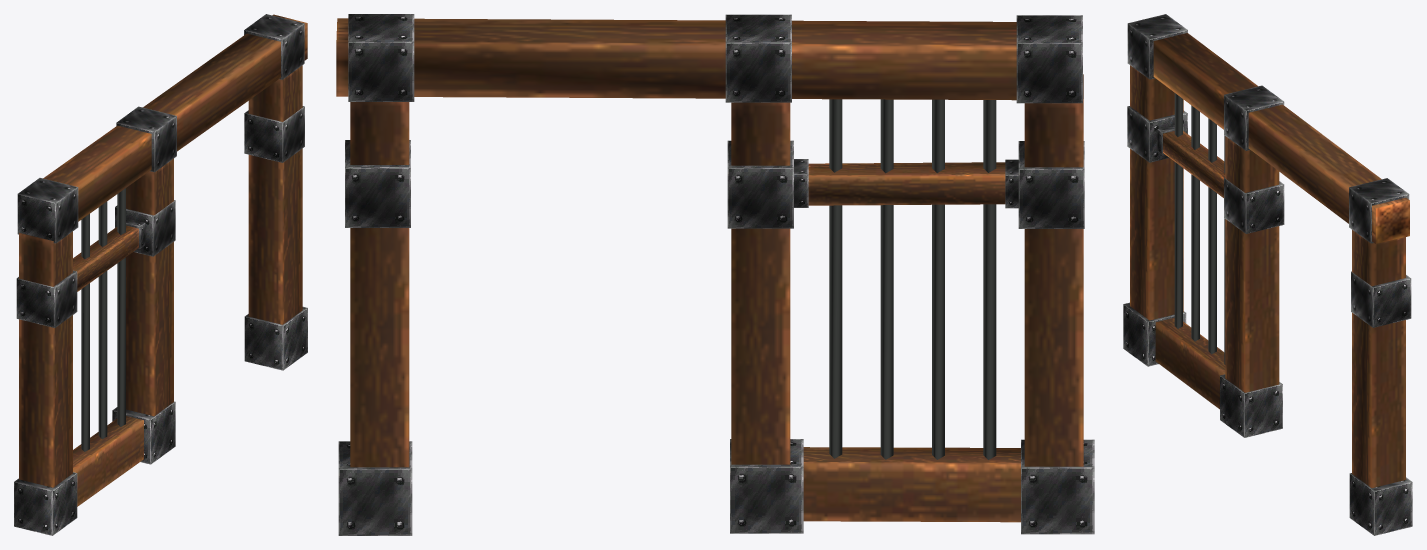
The model's file is SWORDLIGHT20_JAILCELLBARS01.fbx.
3 views of the same model, side by side, from view 1: azimuth 30°, elevation 25°; view 2: azimuth 150°, elevation 25°; view 3: azimuth 270°, elevation 25° (orthographic). The views are drawn at different scales.
Parts seen in each view (by area): view 1: SWORDLIGHT20_JAILCELLBARS01; view 2: SWORDLIGHT20_JAILCELLBARS01; view 3: SWORDLIGHT20_JAILCELLBARS01.
Boxes of the visible parts, left/top/right/bottom form: SWORDLIGHT20_JAILCELLBARS01: left=14, top=14, right=307, bottom=535; SWORDLIGHT20_JAILCELLBARS01: left=336, top=14, right=1094, bottom=535; SWORDLIGHT20_JAILCELLBARS01: left=1123, top=14, right=1412, bottom=535.
Bounding box in the file's own units: 46856 × 37037 × 29421.
3 materials, 3 textured.
